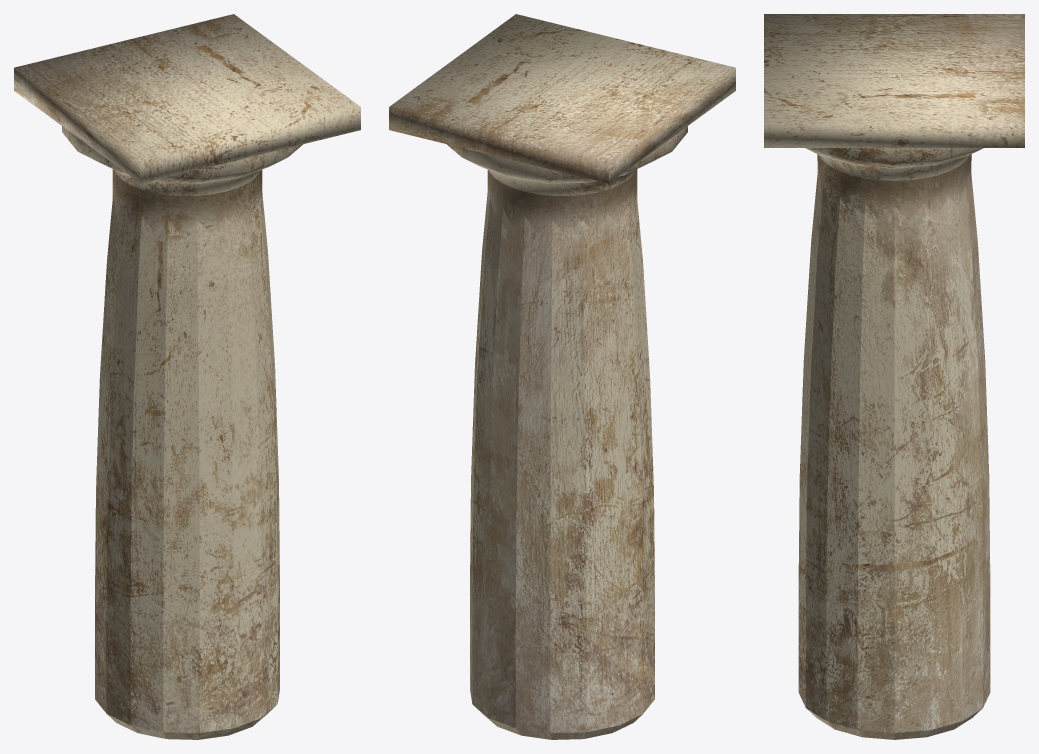
The model's file is Pillar_Sparta.DAE.
The picture shows the model from 3 angles, left to right: view 1: azimuth 30°, elevation 25°; view 2: azimuth 150°, elevation 25°; view 3: azimuth 270°, elevation 25°; orthographic projection. The views are drawn at different scales.
Visible parts, largest first — view 1: SpartanPillar100, SpartanPillar300; view 2: SpartanPillar100, SpartanPillar300; view 3: SpartanPillar100, SpartanPillar300.
Part boxes in pixels (x1,y1,x2,y2): SpartanPillar100: (95, 193, 279, 739); SpartanPillar300: (14, 14, 360, 235); SpartanPillar100: (470, 193, 654, 739); SpartanPillar300: (389, 14, 735, 235); SpartanPillar100: (798, 175, 990, 739); SpartanPillar300: (764, 14, 1024, 220).
Size of what is drawn, in the model's own units: 186 by 186 by 500.
